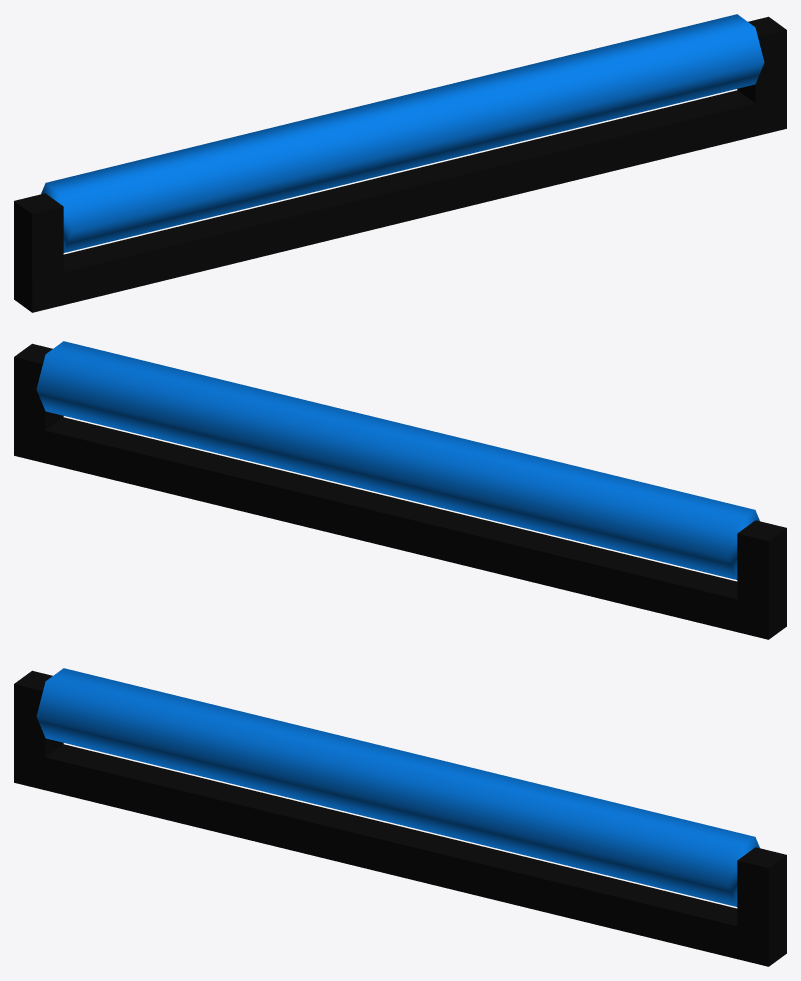
File: light.fbx
3 views of the same model, one above another, from view 1: azimuth 30°, elevation 25°; view 2: azimuth 150°, elevation 25°; view 3: azimuth 330°, elevation 25° (orthographic).
Parts seen in each view (by area): view 1: Cylinder; view 2: Cylinder; view 3: Cylinder.
Boxes of the visible parts, <box> form: Cylinder: <box>14,14,786,312</box>; Cylinder: <box>14,341,786,639</box>; Cylinder: <box>14,668,786,966</box>.
Size of the model in its own units: 2401 by 331 by 200.
